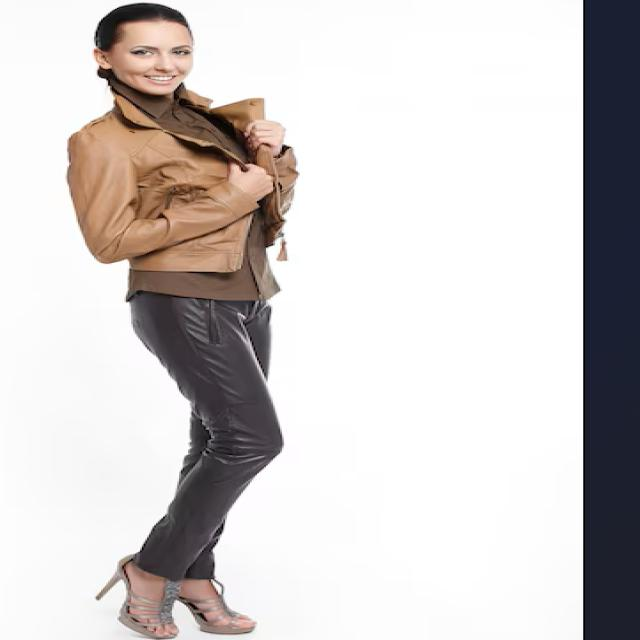Edited images: (60, 0, 342, 638)
